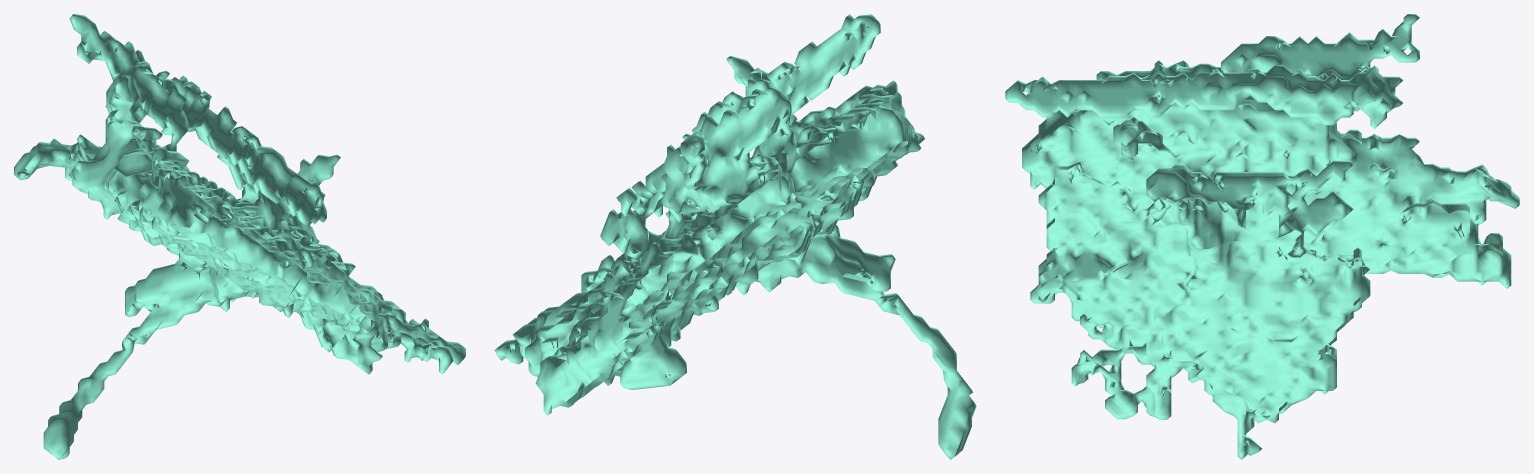
The model's file is osteocyte_52.glb.
The picture shows the model from 3 angles, left to right: view 1: azimuth 30°, elevation 25°; view 2: azimuth 150°, elevation 25°; view 3: azimuth 270°, elevation 25°; orthographic projection. The views are drawn at different scales.
Parts seen in each view (by area): view 1: osteocyte_52; view 2: osteocyte_52; view 3: osteocyte_52.
Boxes of the visible parts, x1,y1,x2,y2 form: osteocyte_52: (14,14,465,459); osteocyte_52: (494,14,976,459); osteocyte_52: (1005,14,1519,459).
Size of the model in its own units: 26.48 by 21.19 by 29.85.
